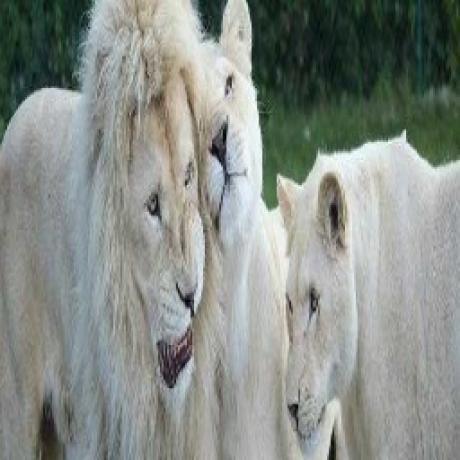Lion: (0, 0, 207, 460), (273, 138, 460, 460), (188, 0, 283, 460)
